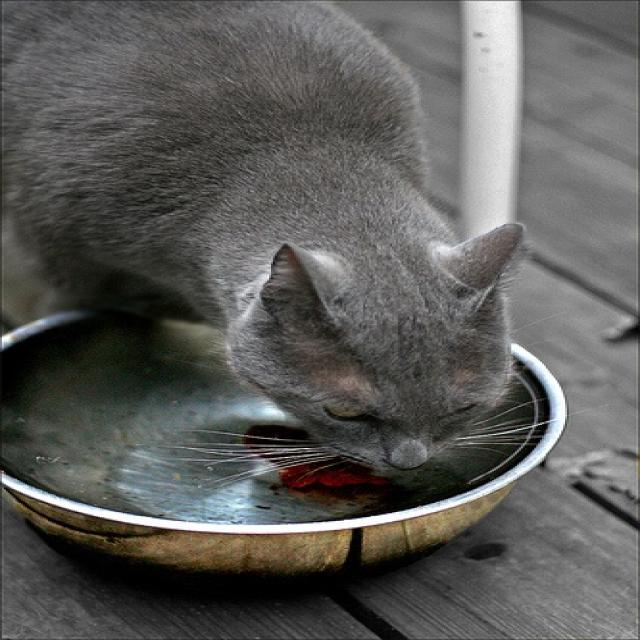cat: (4, 2, 611, 478)
